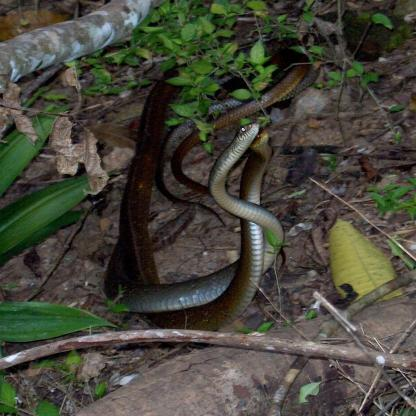Snake: (110, 118, 294, 334), (206, 116, 278, 196)
